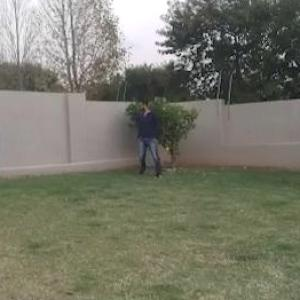follow: (136, 96, 157, 180)
